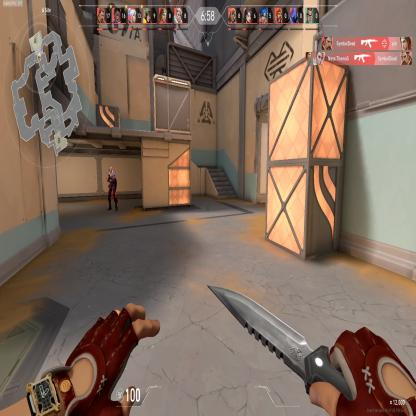enemy: (106, 166, 118, 212)
